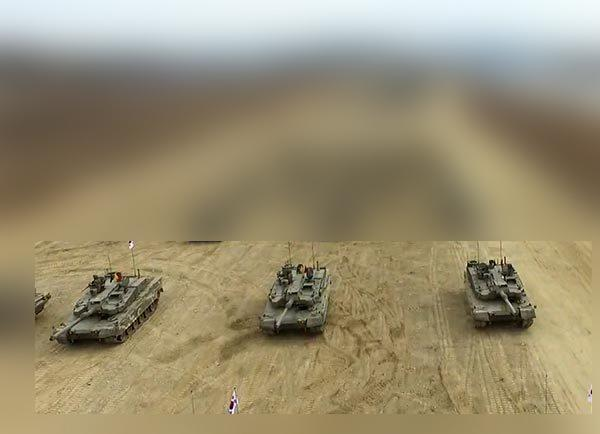tank: (50, 270, 164, 346), (258, 262, 332, 336), (462, 256, 536, 330)
